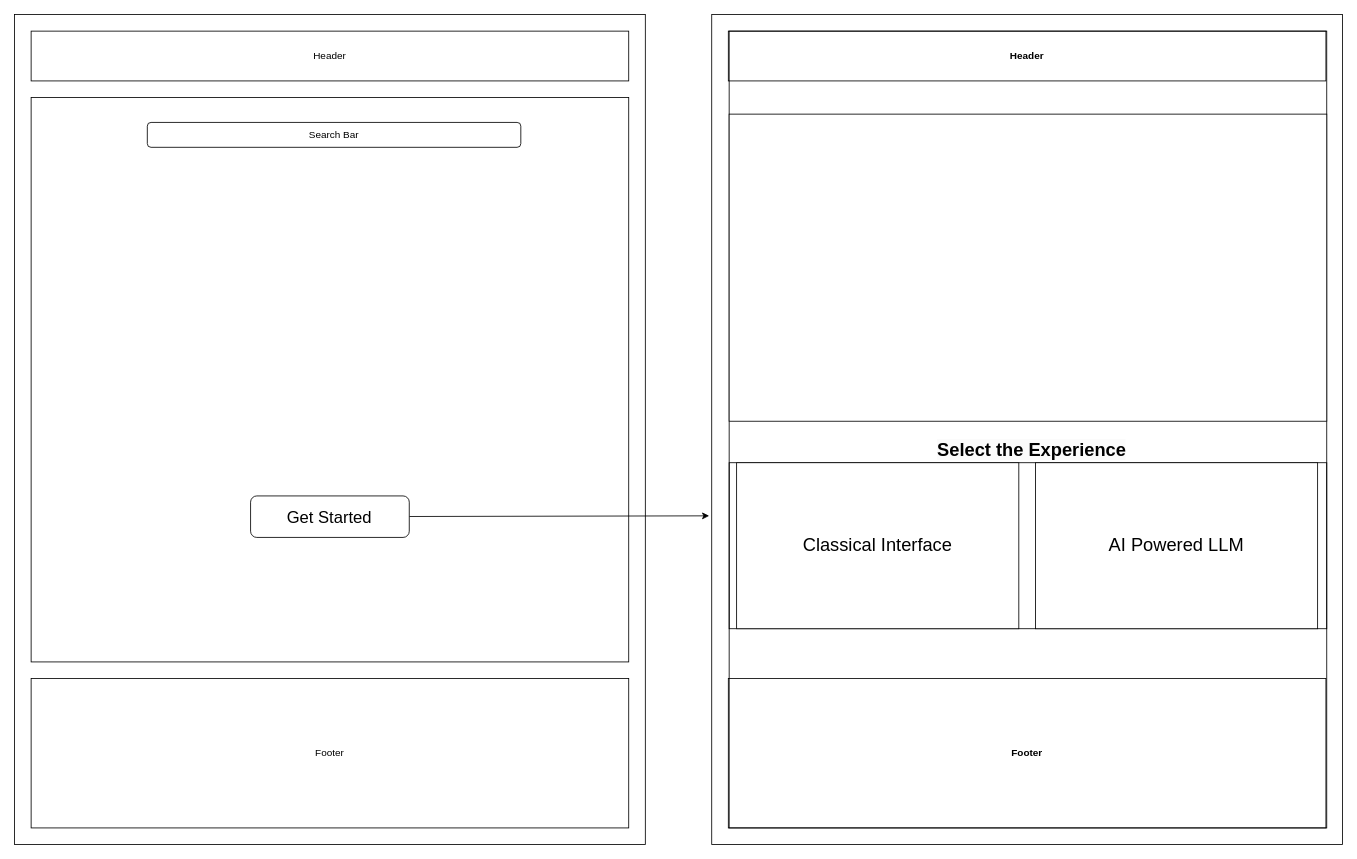
The diagram is 1357 pixels wide and 859 high, and some of its shapes have lost their labels. Each missing label, with the box of its shape:
Animation Space: (728, 113, 1327, 421)
Body: (30, 97, 629, 662)
